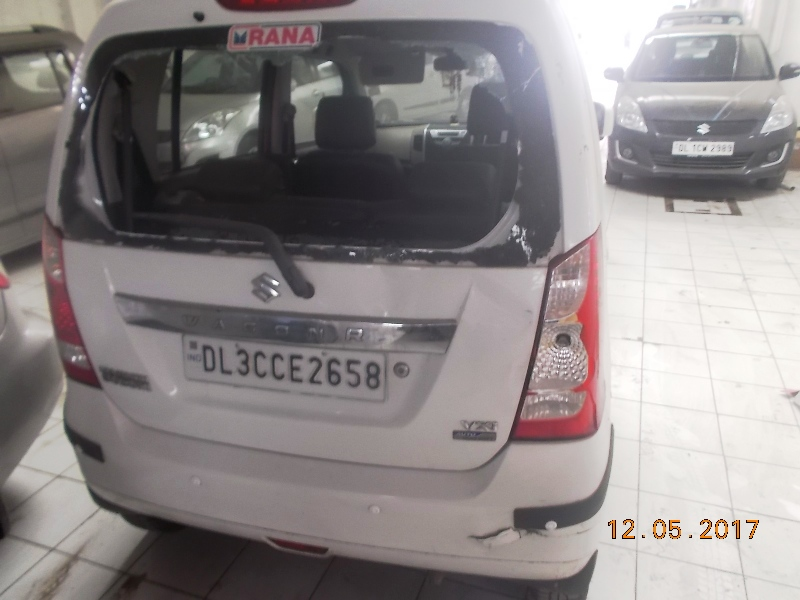Tear: (467, 520, 517, 553)
